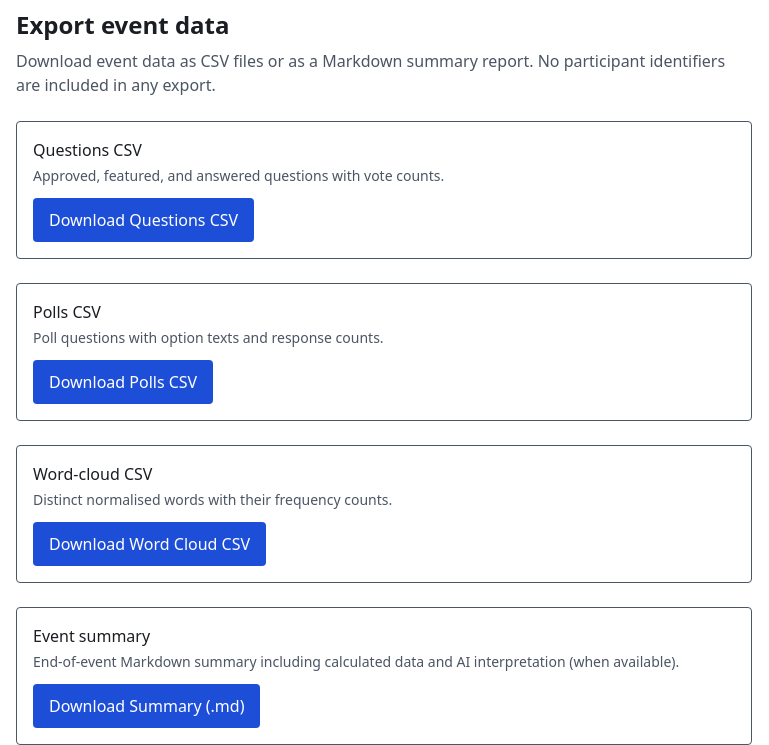
Test: ExportPanel — Download Questions CSV (Req 9.1, 9.6, 9.7) › shows empty-data notice when questions isEmpty (Req 9.6)
The width and height of the screenshot is (769, 745).
Click the button "Download Questions CSV". click: (144, 220)
box: 33,198 -> 254,242
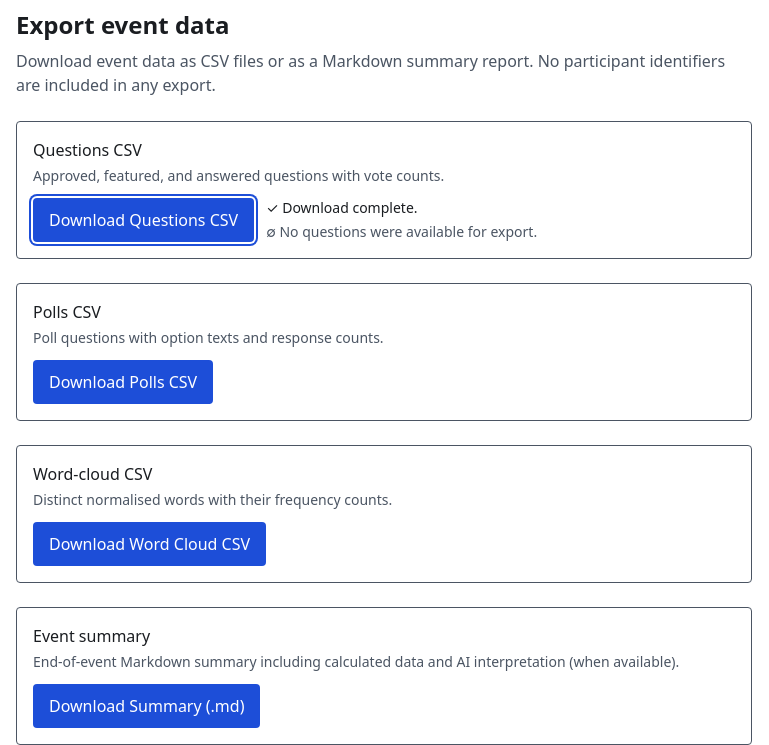
Result: the text "✓ Download complete." is shown at 266,198 -> 418,217
Result: the text "∅ No questions were available for export." is shown at 266,222 -> 537,242
